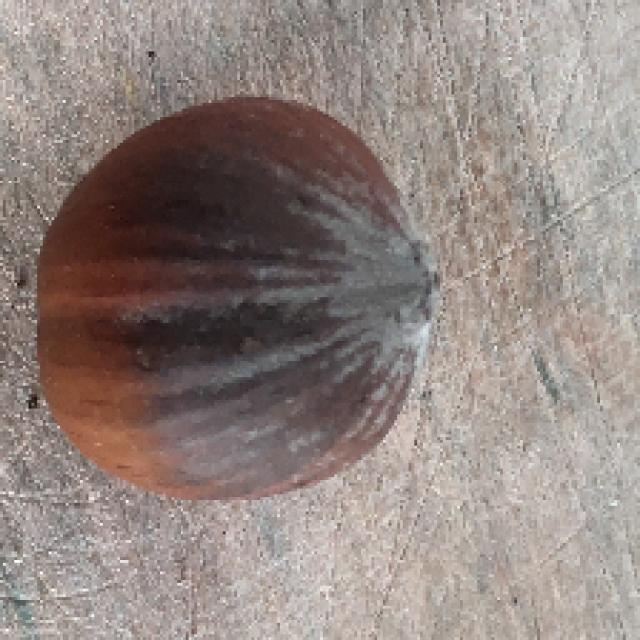damagedHazelnut: (31, 88, 449, 501)
